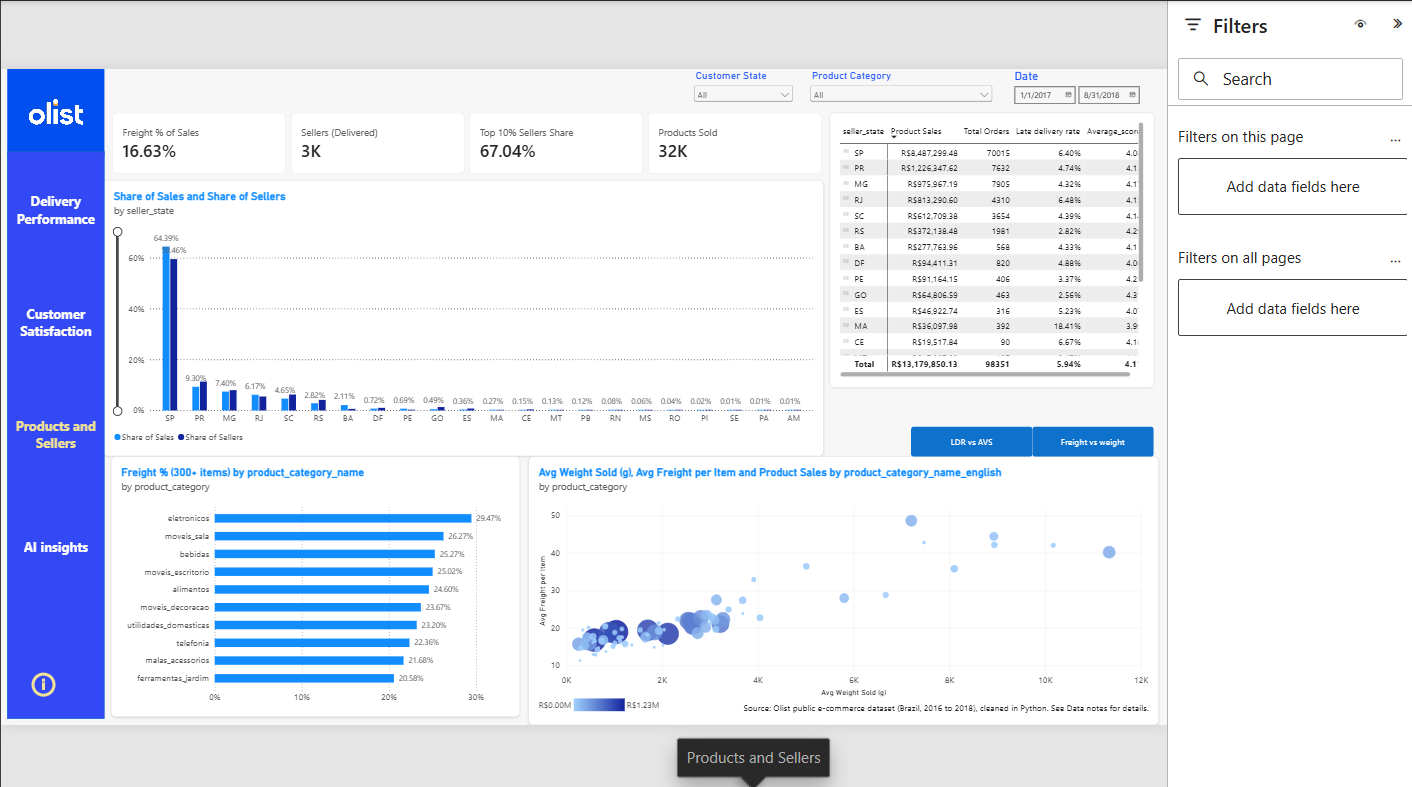

The page's visual inventory and layout, read from the dashboard file:
{"tool":"powerbi","page":{"name":"Products and Sellers","canvas":[1920,1080],"ordinal":3},"visuals":[{"type":"cardVisual","fields":{"Data":["sellers.Freight % of Sales","sellers.Sellers (Delivered)","sellers.Top 10% Sellers Share","sellers.Products Sold"]},"box":[183.3,73,1171.1,101.4],"z":0},{"type":"clusteredColumnChart","fields":{"Category":["sellers.seller_state"],"Y":["sellers.Share of Sales","sellers.Share of Sellers"]},"box":[168.4,183.7,1185.8,454.3],"z":1000},{"type":"barChart","fields":{"Category":["products.product_category_name"],"Y":["sellers.Freight % (300+ items)"]},"box":[180.3,637.6,673.7,428.9],"z":2000},{"type":"scatterChart","fields":{"Category":["products.product_category_name_english"],"Size":["order_items.Product Sales"],"X":["sellers.Avg Weight Sold (g)"],"Y":["sellers.Avg Freight per Item"]},"box":[867.7,638,1037.8,442.3],"z":3000},{"type":"pivotTable","fields":{"Rows":["sellers.seller_state","sellers.seller_city_clean"],"Values":["order_items.Product Sales","Calendar.Total Orders","order_items.Late delivery rate","reviews.Average_score"]},"box":[1354.4,72,551.6,452.8],"z":4000},{"type":"scatterChart","fields":{"Category":["sellers.seller_id"],"Series":["sellers.seller_state"],"Size":["order_items.Product Sales"],"X":["order_items.Late delivery rate"],"Y":["reviews.Avg Score (by Category)"]},"box":[868,638,1037.8,442.3],"z":5000},{"type":"image","box":[10,0,160,144],"z":6000},{"type":"shape","box":[10,136,160,934],"z":7000},{"type":"pageNavigator","box":[10,144,160,734],"z":8000},{"type":"actionButton","box":[10,962,119.4,105],"z":9000},{"type":"slicer","title":"Date","fields":{"Values":["Calendar.Date"]},"box":[1660.6,0,237.7,142.3],"z":10000},{"type":"slicer","title":"Customer State","fields":{"Values":["customers.customer_state"]},"box":[1136.5,0,172.9,81.1],"z":11000},{"type":"slicer","title":"Product Category","fields":{"Values":["products.product_category_name_english"]},"box":[1327.4,0,309.8,68.4],"z":12000},{"type":"actionButton","box":[1698,588,200,50],"z":13000},{"type":"actionButton","box":[1498,588,200,50],"z":14000},{"type":"textbox","box":[1222.5,1042.5,672.5,25],"z":15000}]}

Visuals, with their boxes on the page's 1920x1080 design canvas (x1, y1, x2, y2). These are canvas units, not pixel positions in the 1412x787 screenshot, which may show the page scaled, cropped or inside an application window:
cardVisual - sellers.Freight % of Sales x sellers.Sellers (Delivered): (183, 73, 1354, 174)
clusteredColumnChart - sellers.seller_state x sellers.Share of Sales: (168, 184, 1354, 638)
barChart - products.product_category_name x sellers.Freight % (300+ items): (180, 638, 854, 1066)
scatterChart - products.product_category_name_english x order_items.Product Sales: (868, 638, 1906, 1080)
pivotTable - sellers.seller_state x sellers.seller_city_clean: (1354, 72, 1906, 525)
scatterChart - sellers.seller_id x sellers.seller_state: (868, 638, 1906, 1080)
image: (10, 0, 170, 144)
shape: (10, 136, 170, 1070)
pageNavigator: (10, 144, 170, 878)
actionButton: (10, 962, 129, 1067)
"Date" slicer: (1661, 0, 1898, 142)
"Customer State" slicer: (1136, 0, 1309, 81)
"Product Category" slicer: (1327, 0, 1637, 68)
actionButton: (1698, 588, 1898, 638)
actionButton: (1498, 588, 1698, 638)
textbox: (1222, 1042, 1895, 1068)
